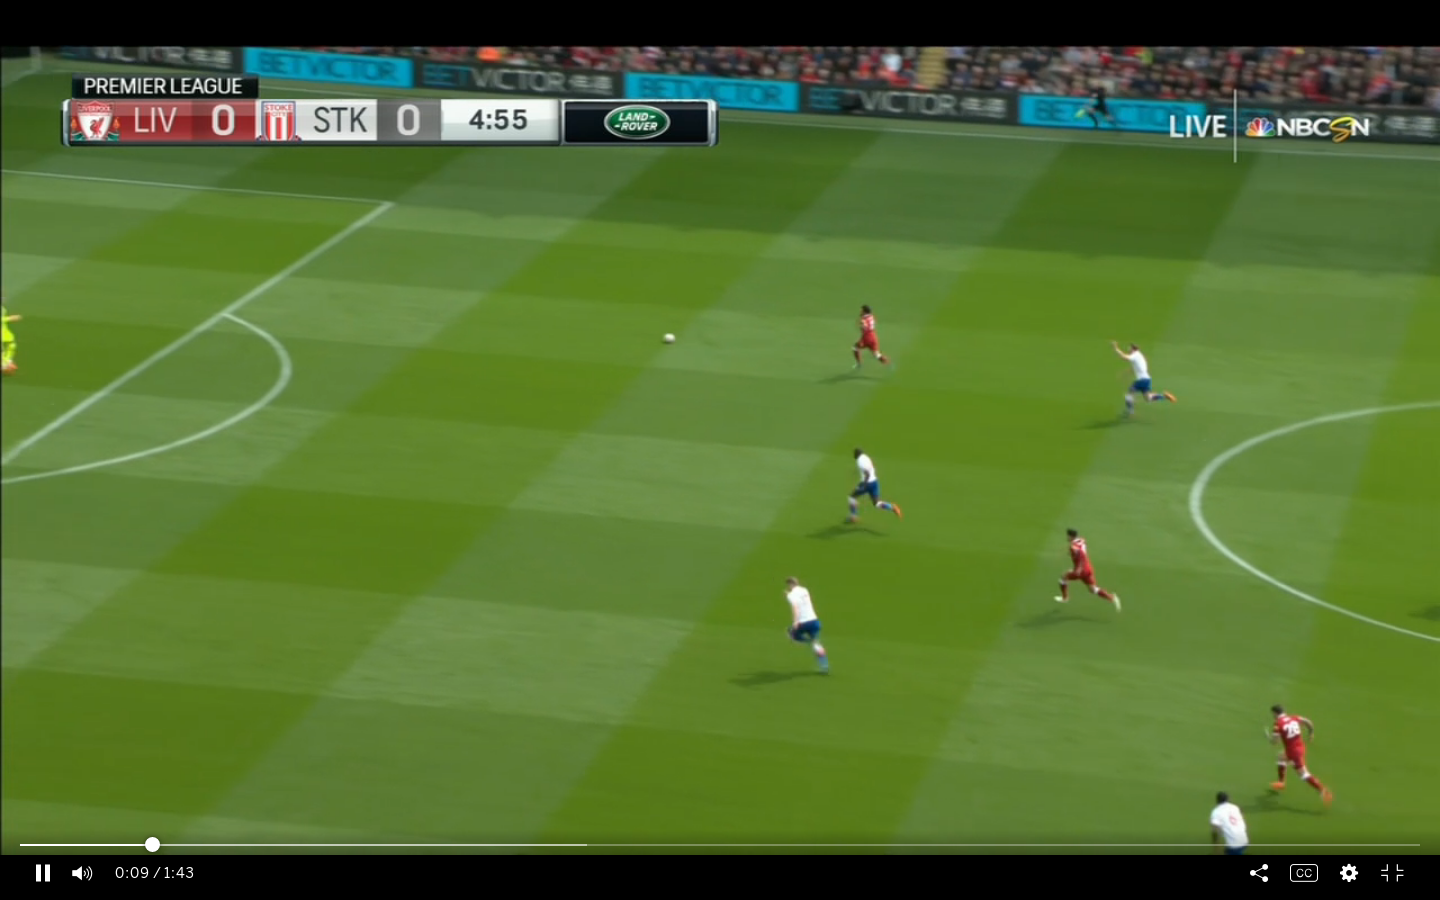soccer player: (1262, 699, 1338, 816), (1050, 519, 1132, 620), (841, 440, 907, 537), (1107, 339, 1179, 426), (779, 571, 828, 677), (848, 299, 892, 386), (1207, 785, 1252, 852)
soccerball: (659, 326, 679, 346)
